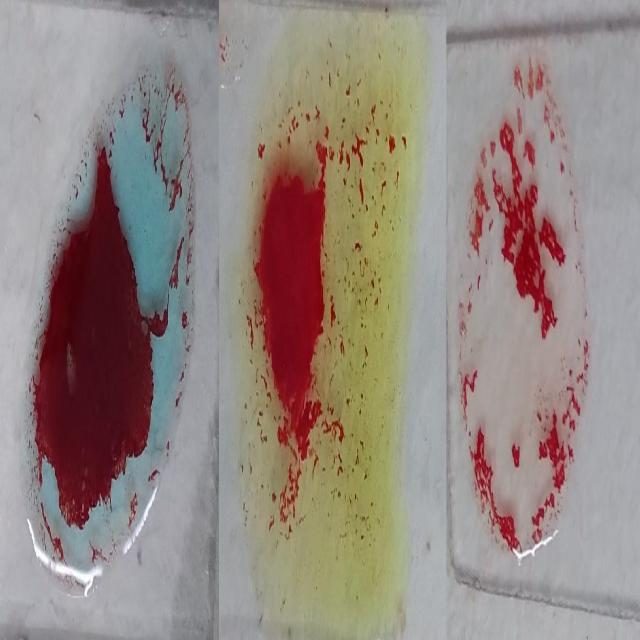A: (18, 77, 190, 581)
B: (232, 18, 401, 592)
D: (458, 68, 589, 565)
